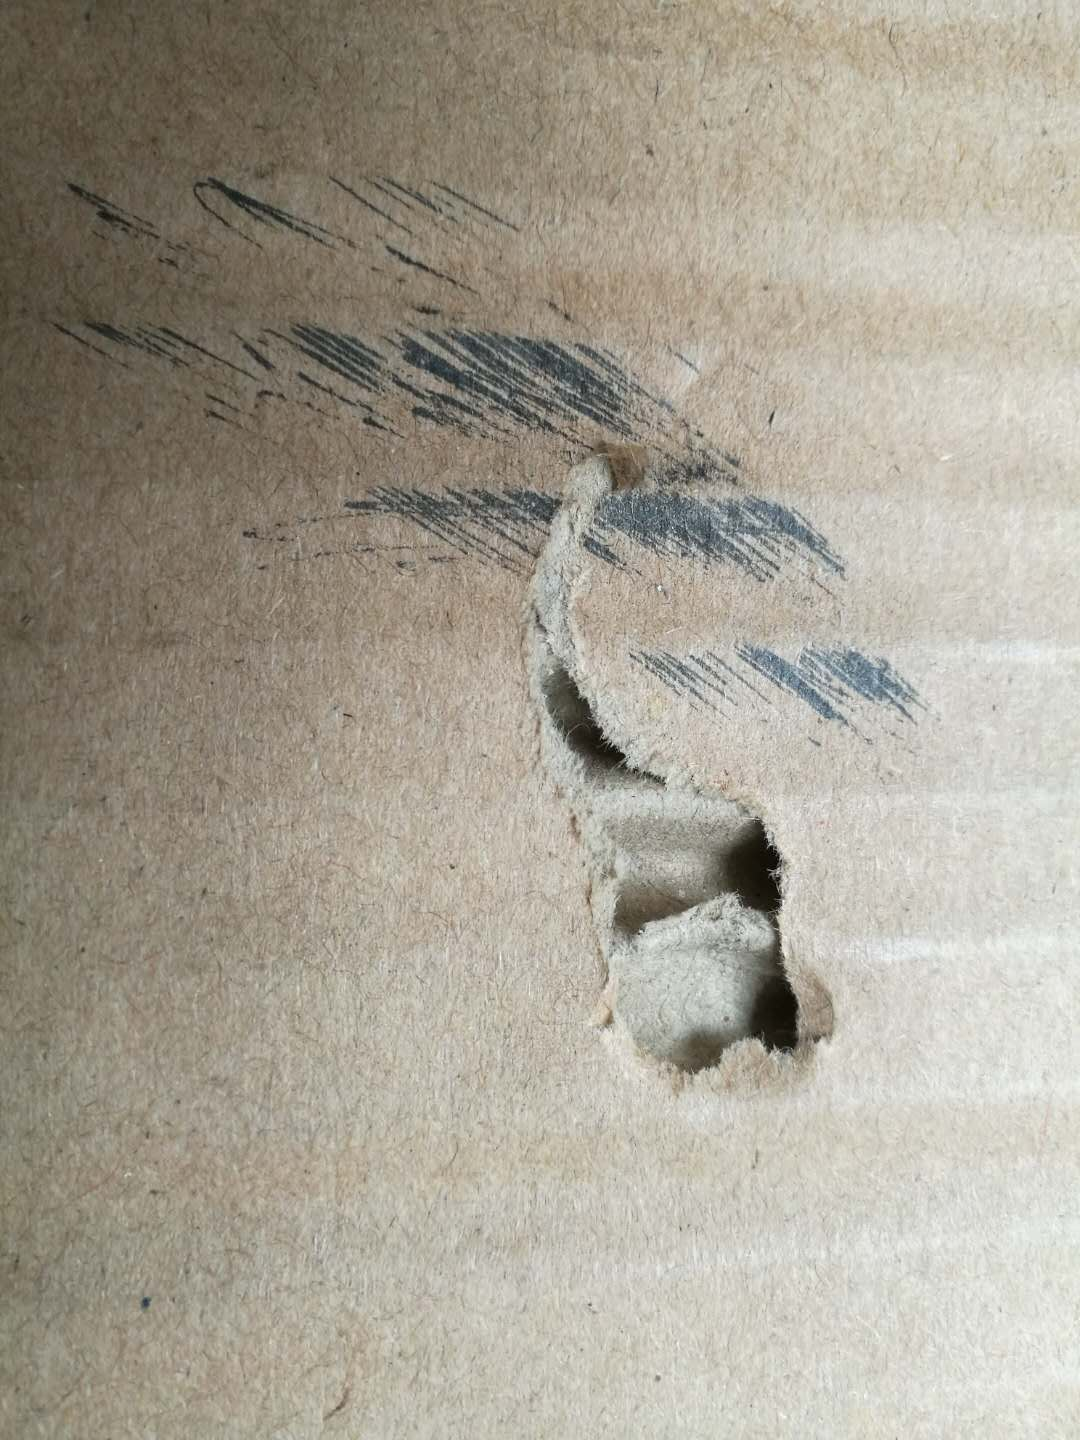defect: (25, 128, 977, 781), (474, 422, 902, 1136)
